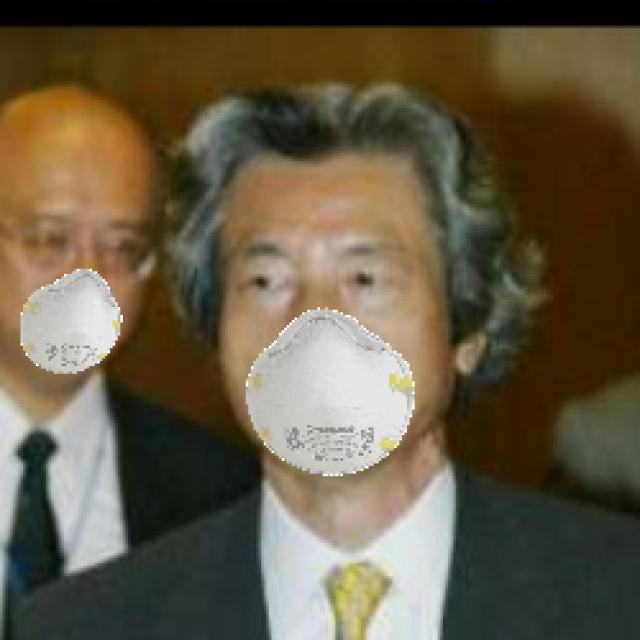mask: (240, 299, 421, 477), (20, 238, 124, 378)
